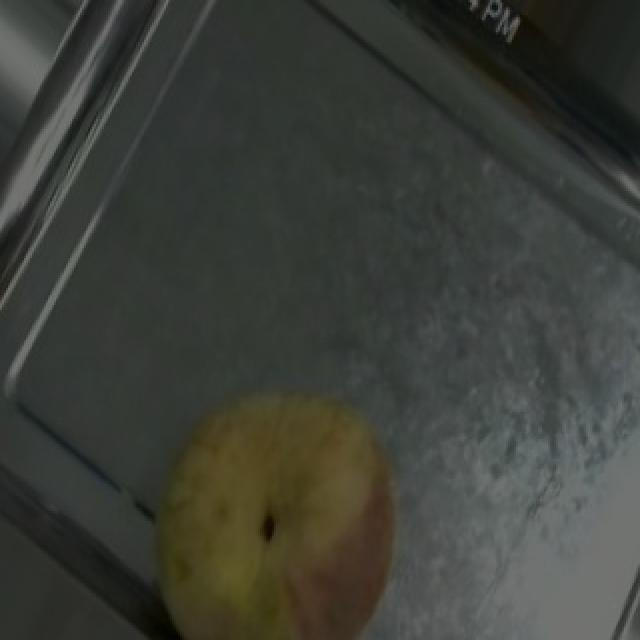Fruit: (112, 345, 446, 640)
